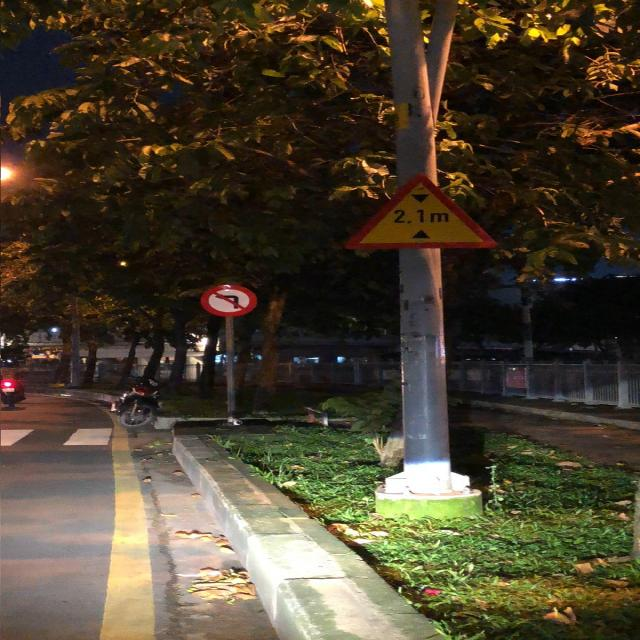Bien bao cam re trai: (197, 278, 262, 317)
Bien bao chieu cao tinh khong thuc te: (336, 171, 506, 253)
